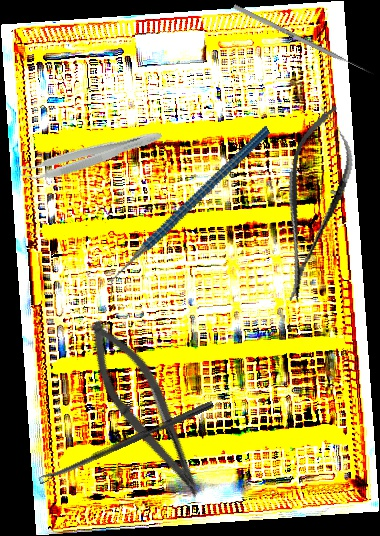Chopper: (73, 125, 306, 300)
Micro Scissor: (68, 310, 226, 508), (259, 99, 366, 308)
Pusher: (232, 4, 376, 77)
Surgical Spoon: (37, 399, 215, 485)
Tissue Forceps: (14, 120, 165, 189)
